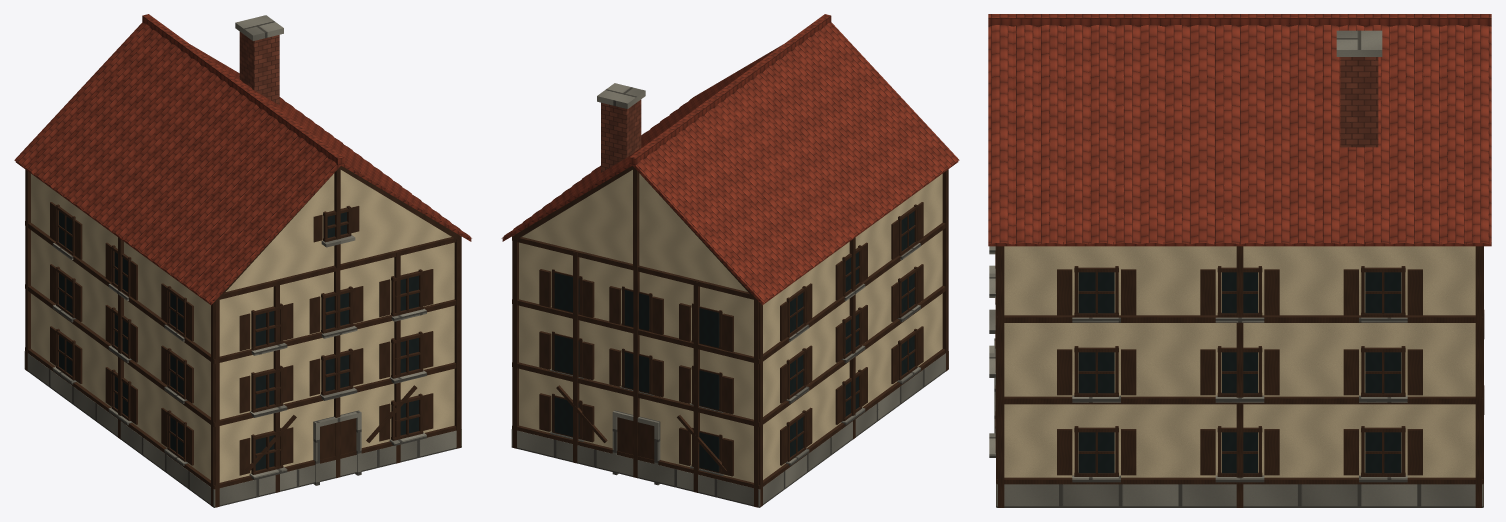
File: SG_House_A_Gable_LOD0.fbx
3 views of the same model, side by side, from view 1: azimuth 30°, elevation 25°; view 2: azimuth 150°, elevation 25°; view 3: azimuth 270°, elevation 25° (orthographic). The views are drawn at different scales.
Visible parts, largest first — view 1: SG_House_A_Gable_Detail0; view 2: SG_House_A_Gable_Detail0; view 3: SG_House_A_Gable_Detail0.
Boxes of the visible parts, <box> form: SG_House_A_Gable_Detail0: <box>14,14,471,507</box>; SG_House_A_Gable_Detail0: <box>501,14,959,507</box>; SG_House_A_Gable_Detail0: <box>988,14,1491,507</box>.
Bounding box in the file's own units: 19.64 × 23.95 × 25.3.
